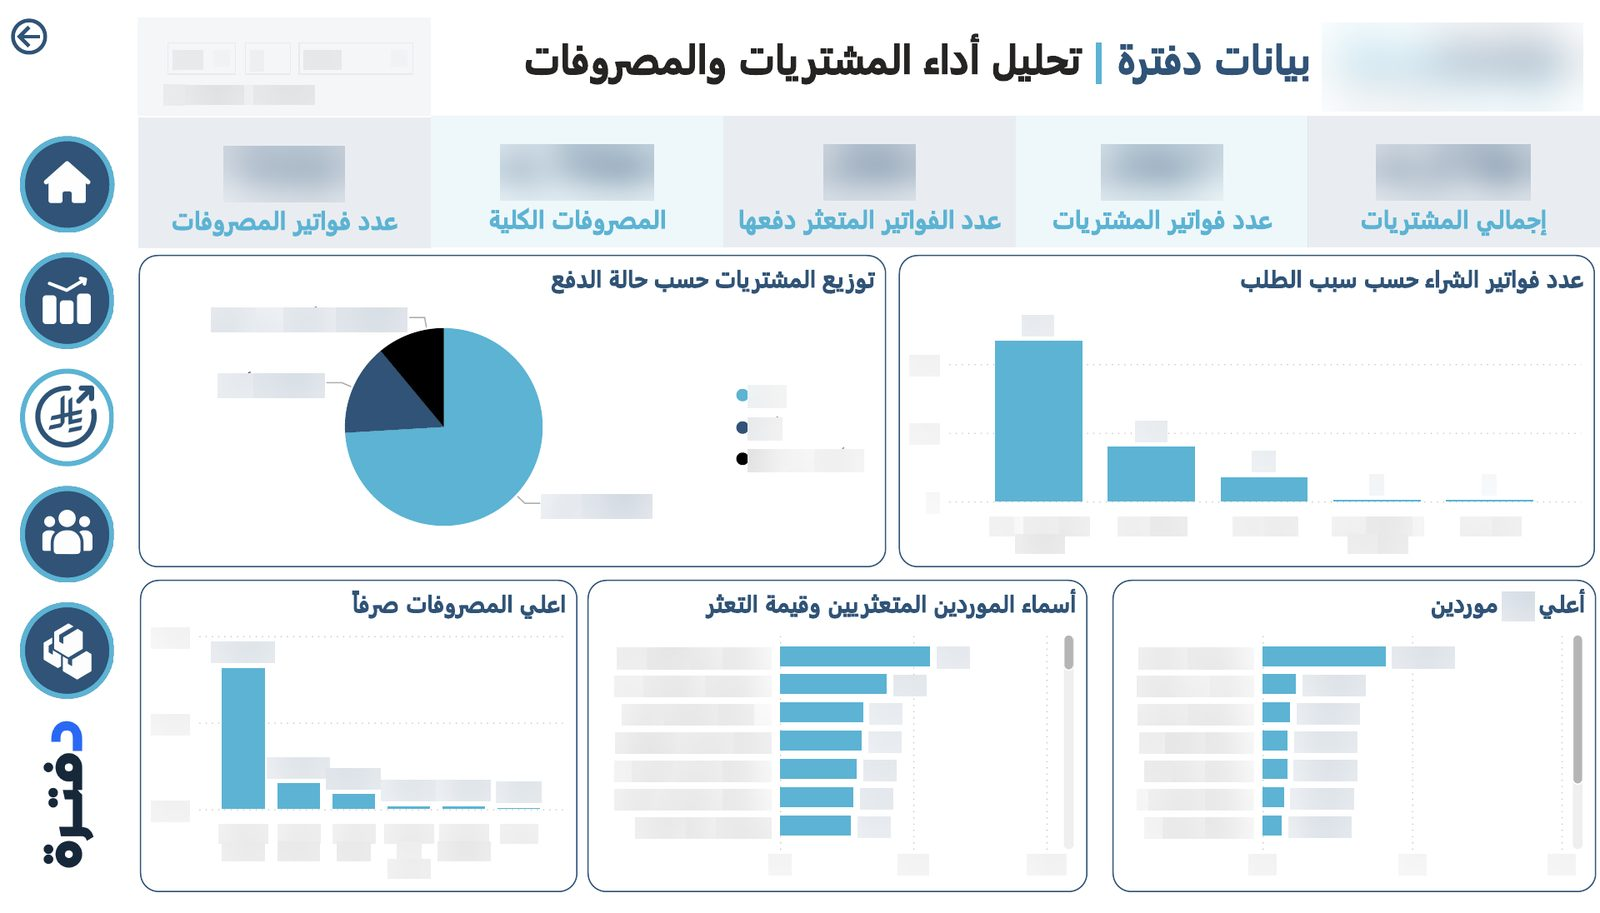

What the dashboard file says about the page in this screenshot:
{"tool":"powerbi","page":{"name":" بيانات دفترة | تحليل أداء المشتريات والمصروفات","canvas":[1280,720],"ordinal":2},"visuals":[{"type":"textbox","box":[410,14,644,64],"z":0},{"type":"image","box":[1055,9,214,80],"z":1000},{"type":"card","fields":{"Values":["daftra_purchase_order.Purshace without Refunds"]},"box":[1046,88.2,234,105.2],"z":2000},{"type":"card","fields":{"Values":["daftra_purchase_order.Net Purchase Count"]},"box":[813,88.2,234,105.2],"z":3000},{"type":"card","fields":{"Values":["daftra_purchase_order.Overdue Purchases Count Net (60 Days)"]},"box":[579,88.2,234,105.2],"z":4000},{"type":"clusteredColumnChart","title":"عدد فواتير الشراء حسب سبب الطلب","fields":{"Category":["daftra_purchase_order.order_reason"],"Y":["Count(daftra_purchase_order.id)"]},"box":[719.2,199.3,557.1,249.8],"z":5000},{"type":"pieChart","title":"توزيع المشتريات حسب حالة الدفع","fields":{"Category":["Daftra_Purchase_Status.Type"],"Y":["daftra_purchase_order.Purchase Value"]},"box":[110.8,199,598.1,249.9],"z":6000},{"type":"clusteredBarChart","title":"أعلي 10 موردين","fields":{"Y":["daftra_purchase_order.Purshace without Refunds"],"Category":["daftra_supplier.business_name"]},"box":[889.5,459.3,387.2,250],"z":7000},{"type":"shape","box":[16.4,196.9,75.5,77.3],"z":8000},{"type":"shape","box":[16.4,290,75.5,78.2],"z":9000},{"type":"image","box":[21.8,554.5,64.5,154.5],"z":10000},{"type":"image","box":[25.5,209.1,57.3,52.7],"z":11000},{"type":"image","box":[20,295.5,68.2,67.3],"z":12000},{"type":"actionButton","box":[4.3,0,38.6,48.6],"z":13000},{"type":"shape","box":[16.4,103.7,75.6,77.3],"z":14000},{"type":"image","box":[27.3,113.6,53.6,53.6],"z":15000},{"type":"shape","box":[16.4,384.1,75.5,77.3],"z":16000},{"type":"image","box":[29.1,396.4,50,50],"z":17000},{"type":"shape","box":[16.4,477.3,75.5,77.3],"z":18000},{"type":"image","box":[26.4,482.7,56.4,67.3],"z":19000},{"type":"card","fields":{"Values":["Sum(daftra_expense.amount)"]},"box":[345,88.2,234,105.2],"z":20000},{"type":"card","fields":{"Values":["CountNonNull(daftra_expense.id)"]},"box":[111.2,88.8,233.8,105],"z":21000},{"type":"clusteredColumnChart","title":"اعلي المصروفات صرفاً","fields":{"Category":["daftra_expense.category"],"Y":["Sum(daftra_expense.amount)"]},"box":[111.6,459.3,350,250],"z":22000},{"type":"slicer","fields":{"Values":["Date.Date"]},"box":[110.5,9.3,234.9,79.1],"z":23000},{"type":"clusteredBarChart","title":"أسماء الموردين المتعثريين وقيمة التعثر","fields":{"Category":["daftra_supplier.business_name"],"Y":["daftra_purchase_order.Overdue Purchases Net"]},"box":[469.8,459.3,400,250],"z":24000}]}

Visuals, with their boxes in screenshot pixels (x1, y1, x2, y2), scaled from the page's 1280x720 canvas onto the 1600x913 screenshot:
textbox: (512,18,1318,99)
image: (1319,11,1586,113)
card - daftra_purchase_order.Purshace without Refunds: (1308,112,1599,245)
card - daftra_purchase_order.Net Purchase Count: (1016,112,1309,245)
card - daftra_purchase_order.Overdue Purchases Count Net (60 Days): (724,112,1016,245)
"عدد فواتير الشراء حسب سبب الطلب" clusteredColumnChart: (899,253,1595,569)
"توزيع المشتريات حسب حالة الدفع" pieChart: (138,252,886,569)
"أعلي 10 موردين" clusteredBarChart: (1112,582,1596,899)
shape: (20,250,115,348)
shape: (20,368,115,467)
image: (27,703,108,899)
image: (32,265,104,332)
image: (25,375,110,460)
actionButton: (5,0,54,62)
shape: (20,131,115,230)
image: (34,144,101,212)
shape: (20,487,115,585)
image: (36,503,99,566)
shape: (20,605,115,703)
image: (33,612,104,697)
card - Sum(daftra_expense.amount): (431,112,724,245)
card - CountNonNull(daftra_expense.id): (139,113,431,246)
"اعلي المصروفات صرفاً" clusteredColumnChart: (140,582,577,899)
slicer - Date.Date: (138,12,432,112)
"أسماء الموردين المتعثريين وقيمة التعثر" clusteredBarChart: (587,582,1087,899)
